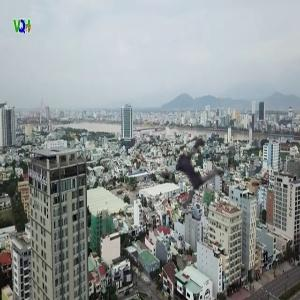drone: (144, 125, 235, 216)
